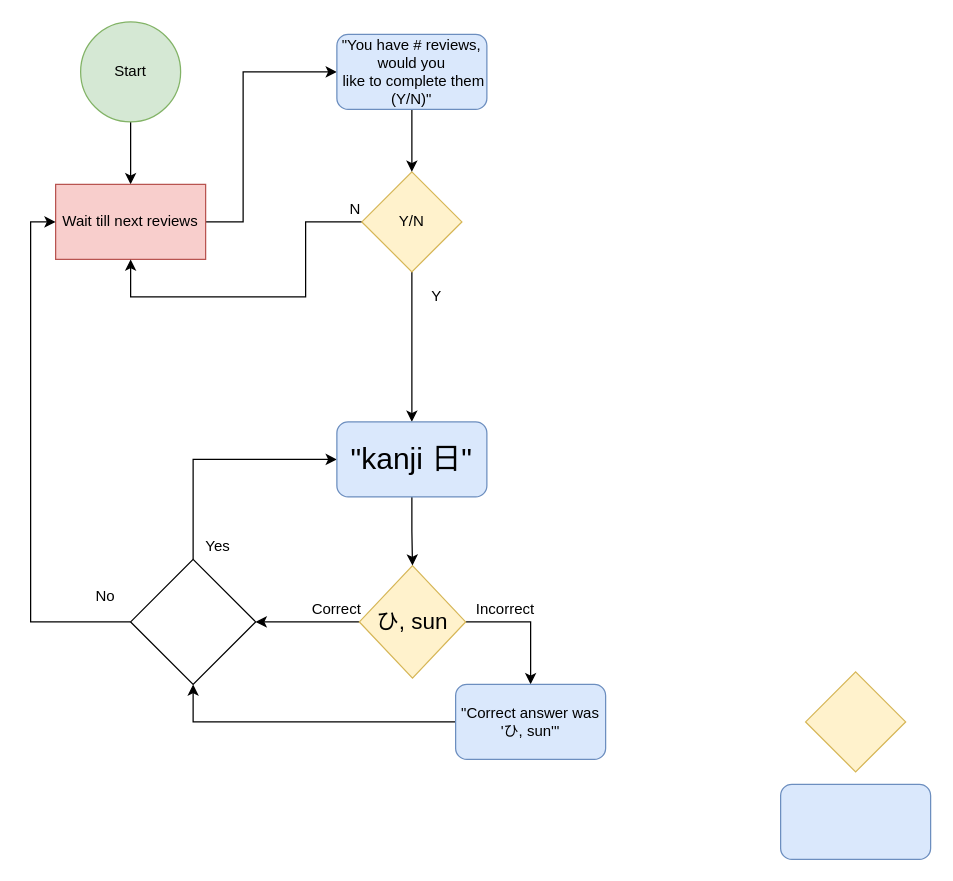
Some shapes in this 953 by 881 pixel diagram are drawn without their labels. Each missing label, with the centre of its shape:
Are there more reviews: [192,621]
User Input: [855,721]
User prompt: [855,821]
